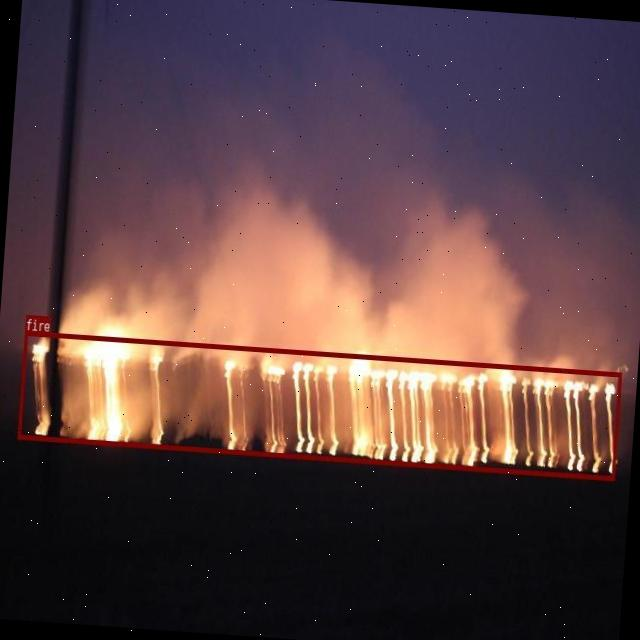fire: (17, 329, 621, 478)
